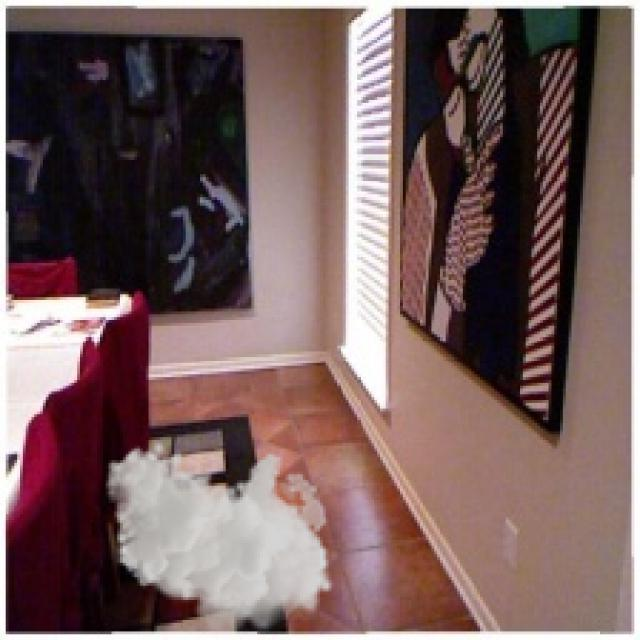Smoke: (106, 440, 337, 637)
